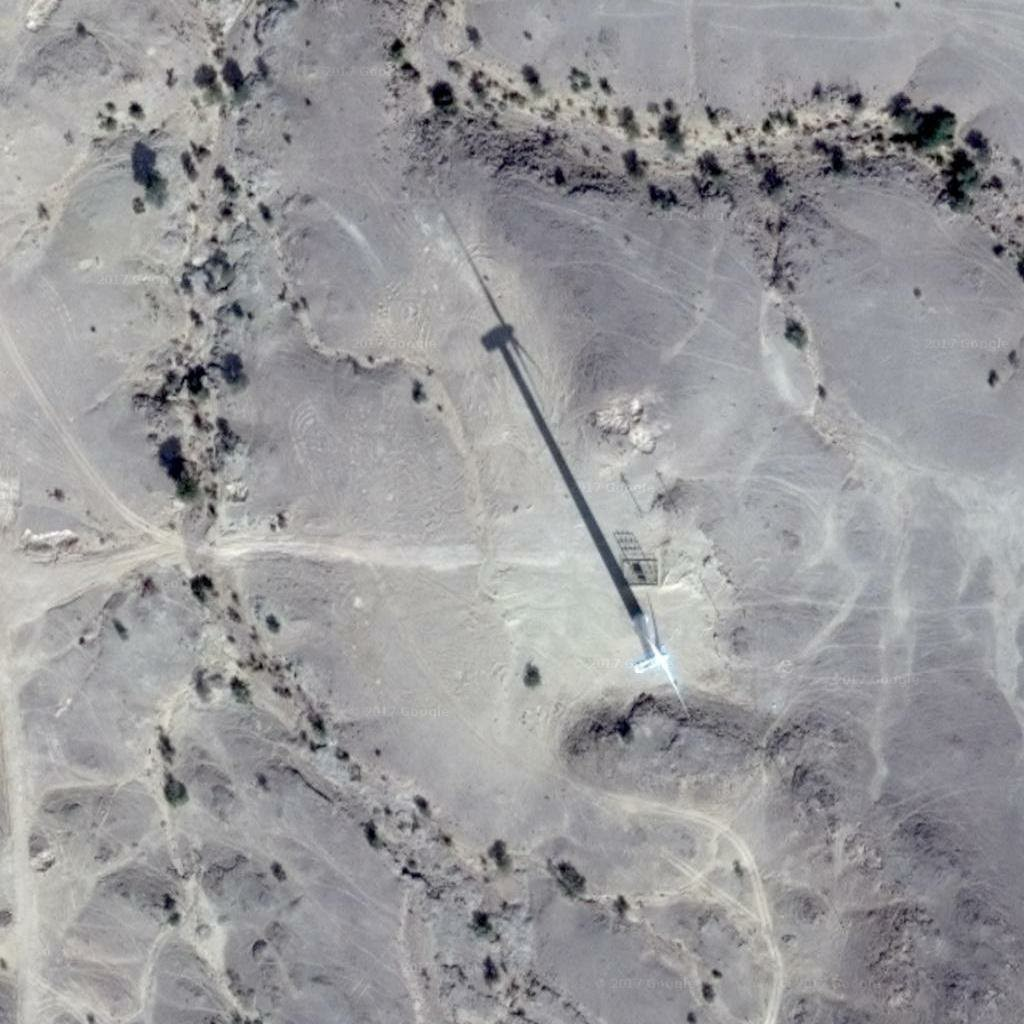Windmill: (435, 208, 649, 610)
